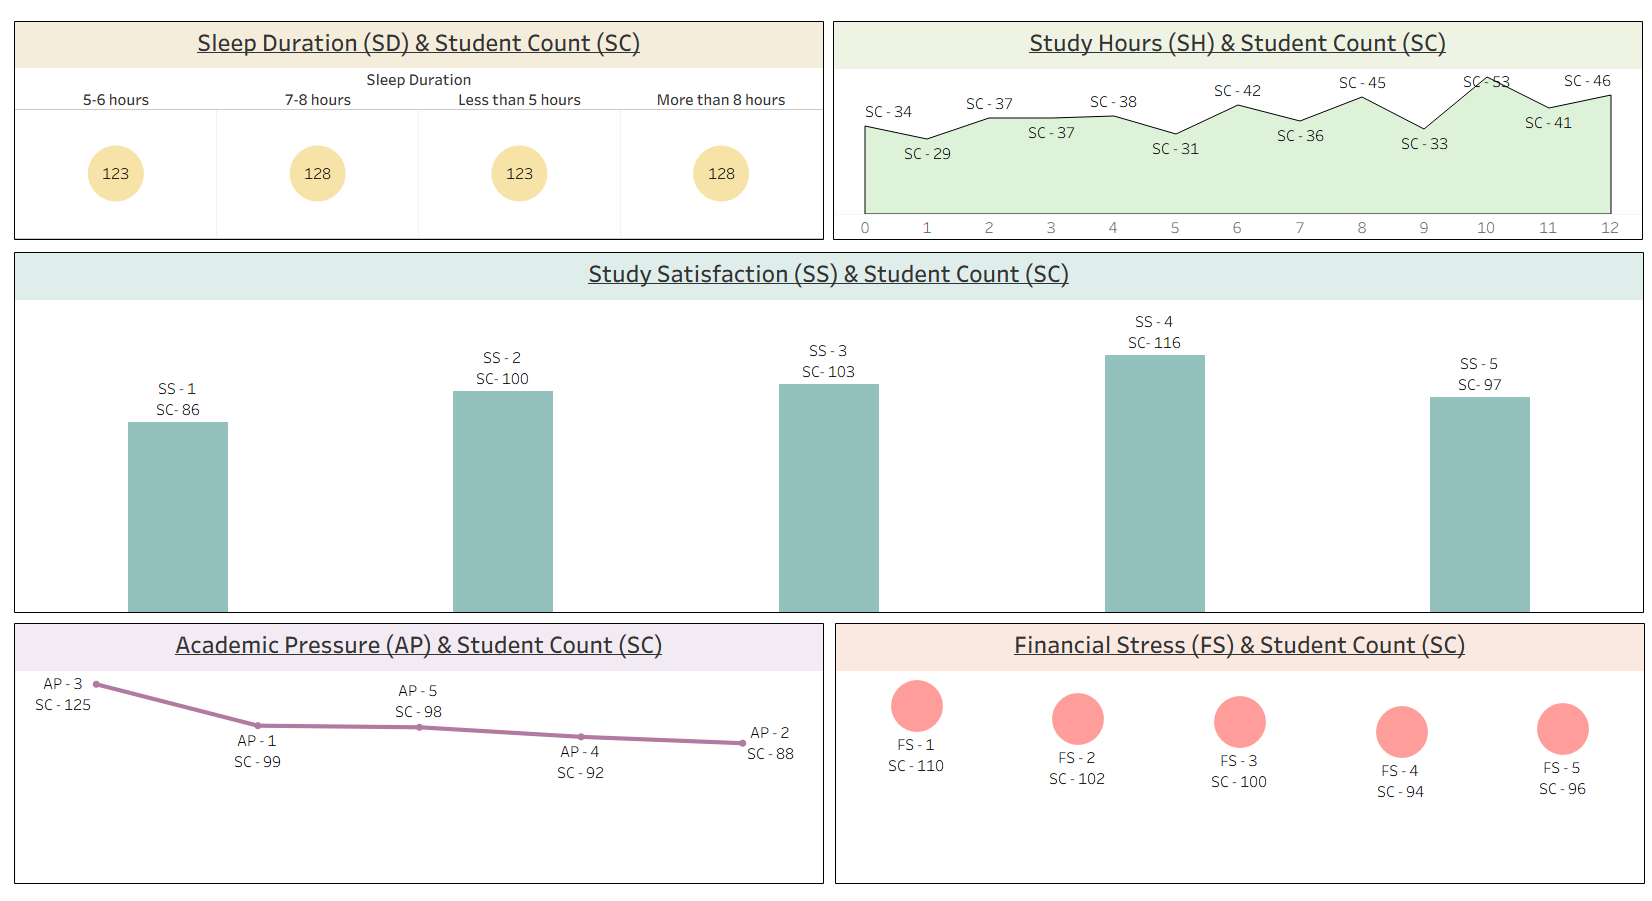

The page's visual inventory and layout, read from the dashboard file:
{"tool":"tableau","page":{"name":"Student Count Analysis","canvas":[1000,1000],"units":"permille","ordinal":0},"visuals":[{"type":"worksheet","title":"SD & SC","mark":"Pie","cols":["Sleep_Duration"],"box":[9.7,25.2,488.8,240.4]},{"type":"worksheet","title":"SH & SC","mark":"Area","rows":["Index_Column"],"cols":["Study_Hours"],"box":[503.9,25.2,488.8,240.4]},{"type":"worksheet","title":"SS & SC","mark":"Automatic","rows":["Index_Column"],"cols":["Study_Satisfaction"],"box":[9.7,278.8,983.7,396.3]},{"type":"worksheet","title":"AP & SC","mark":"Line","rows":["Index_Column"],"cols":["Academic_Pressure"],"box":[9.7,686.1,488.8,286.5]},{"type":"worksheet","title":"FS & SC","mark":"Circle","rows":["Index_Column"],"cols":["Financial_Stress"],"box":[505.1,686.1,488.8,286.5]}]}

Visuals, with their boxes on the dashboard's canvas, which has no fixed pixel size, in thousandths of its width and height (x1, y1, x2, y2). These are canvas units, not pixel positions in the 1652x901 screenshot, which may show the page scaled, cropped or inside an application window:
"SD & SC" worksheet (Pie marks): <bbox>10, 25, 498, 266</bbox>
"SH & SC" worksheet (Area marks): <bbox>504, 25, 993, 266</bbox>
"SS & SC" worksheet: <bbox>10, 279, 993, 675</bbox>
"AP & SC" worksheet (Line marks): <bbox>10, 686, 498, 973</bbox>
"FS & SC" worksheet (Circle marks): <bbox>505, 686, 994, 973</bbox>
